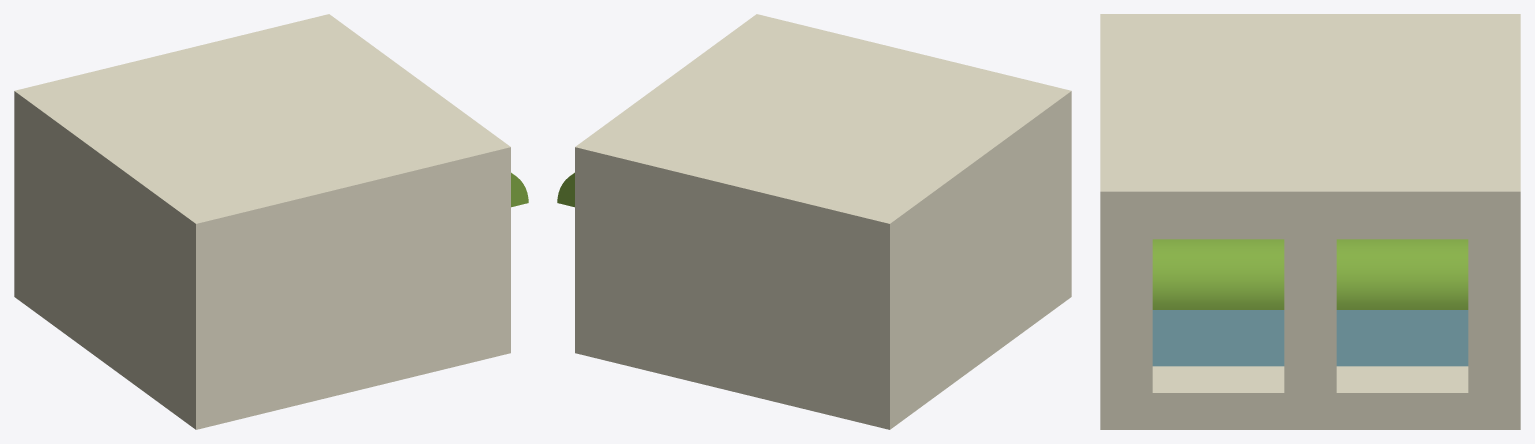
File: building_032.dae
3 views of the same model, side by side, from view 1: azimuth 30°, elevation 25°; view 2: azimuth 150°, elevation 25°; view 3: azimuth 270°, elevation 25° (orthographic). The views are drawn at different scales.
Parts seen in each view (by area): view 1: building_032; view 2: building_032; view 3: building_032.
Boxes of the visible parts, x1,y1,x2,y2 form: building_032: (14,14,528,429); building_032: (557,14,1071,429); building_032: (1100,14,1520,429).
Size of the model in its own units: 1.13 by 0.625 by 1.
